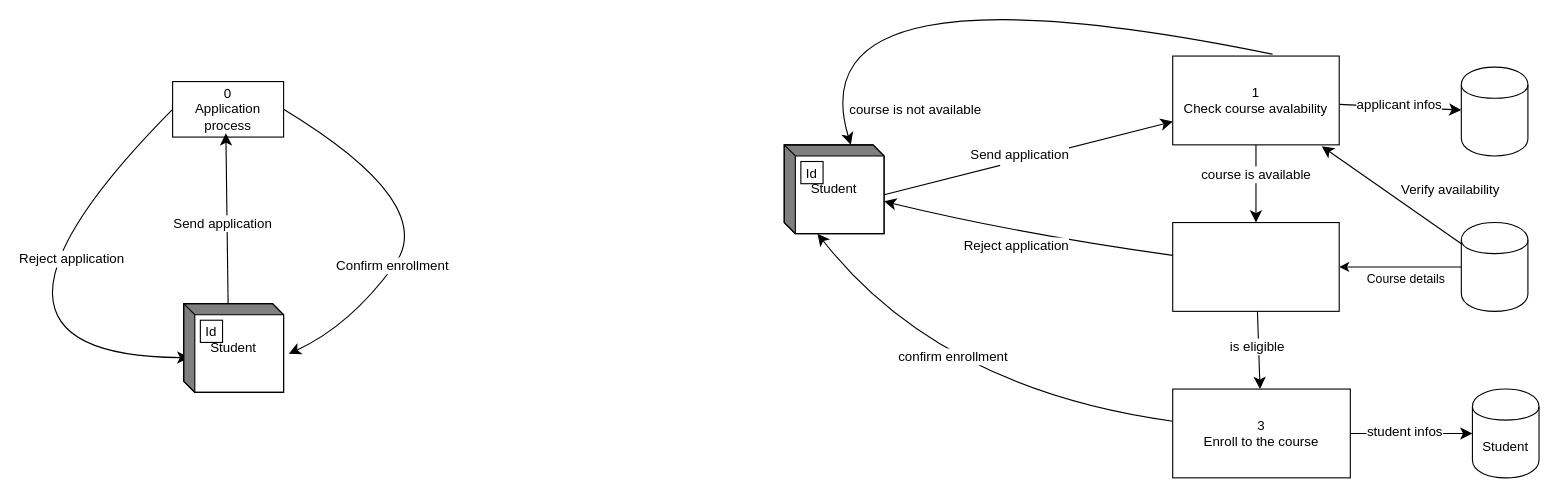
Some shapes in this 1558 by 497 pixel diagram are drawn without their labels. Each missing label, with the centre of its shape:
2 Check academic qualification: pixel 1255 266
Applicant: pixel 1494 111
Course: pixel 1494 266
